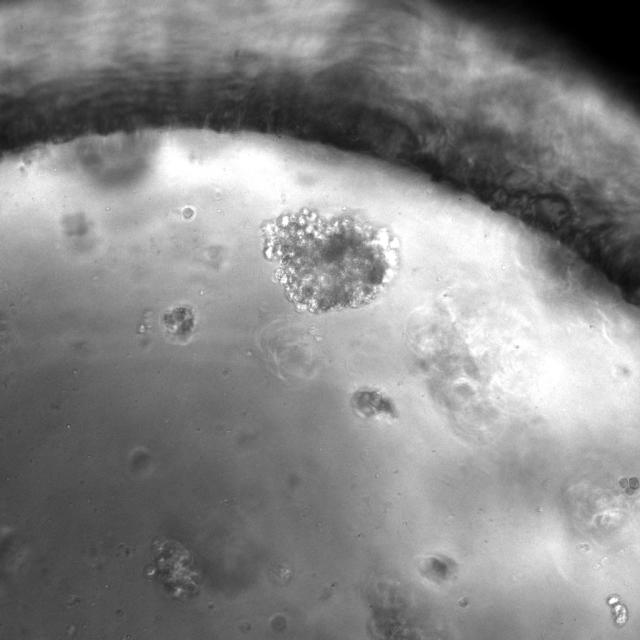organoid: (261, 207, 398, 312), (144, 539, 200, 601), (350, 388, 395, 418), (161, 305, 196, 343), (606, 594, 628, 626), (618, 477, 639, 494), (182, 207, 194, 219)
